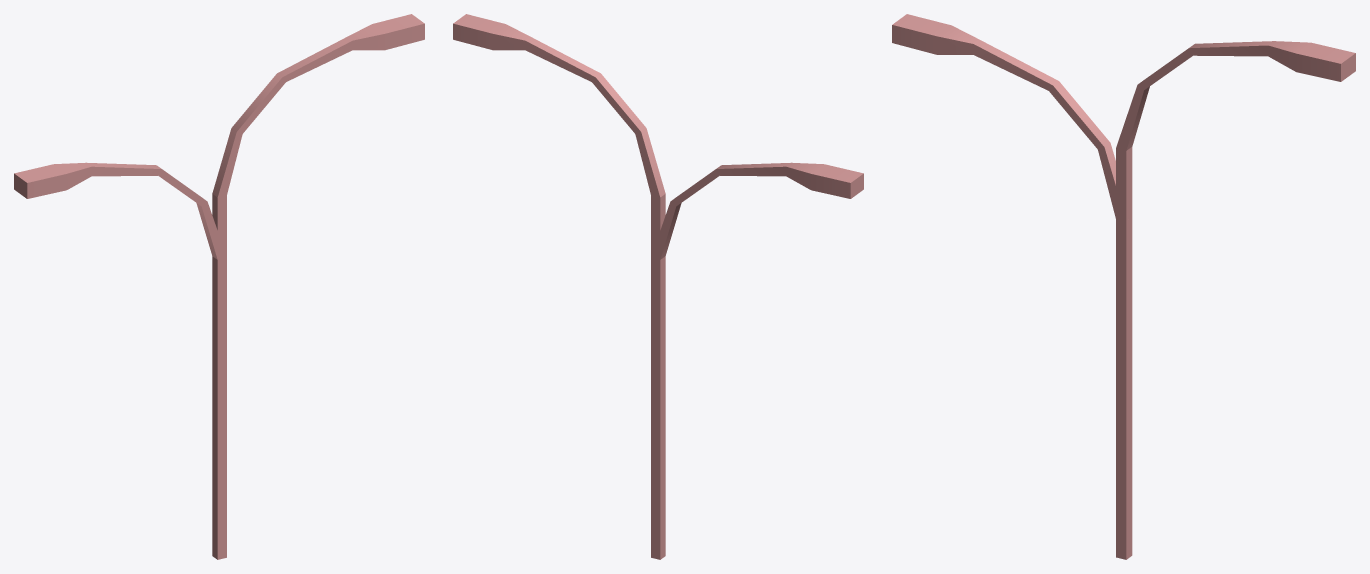
The model's file is LightPole_A_B_COL.fbx.
3 renders of one model, left to right at view 1: azimuth 30°, elevation 25°; view 2: azimuth 150°, elevation 25°; view 3: azimuth 330°, elevation 25°, orthographic. The views are drawn at different scales.
Visible parts, largest first — view 1: LightPole_A_B_COL; view 2: LightPole_A_B_COL; view 3: LightPole_A_B_COL.
Boxes of the visible parts, x1,y1,x2,y2 form: LightPole_A_B_COL: (14, 14, 424, 559); LightPole_A_B_COL: (453, 14, 863, 559); LightPole_A_B_COL: (892, 14, 1355, 559).
Size of the model in its own units: 593 by 698 by 34.15.
